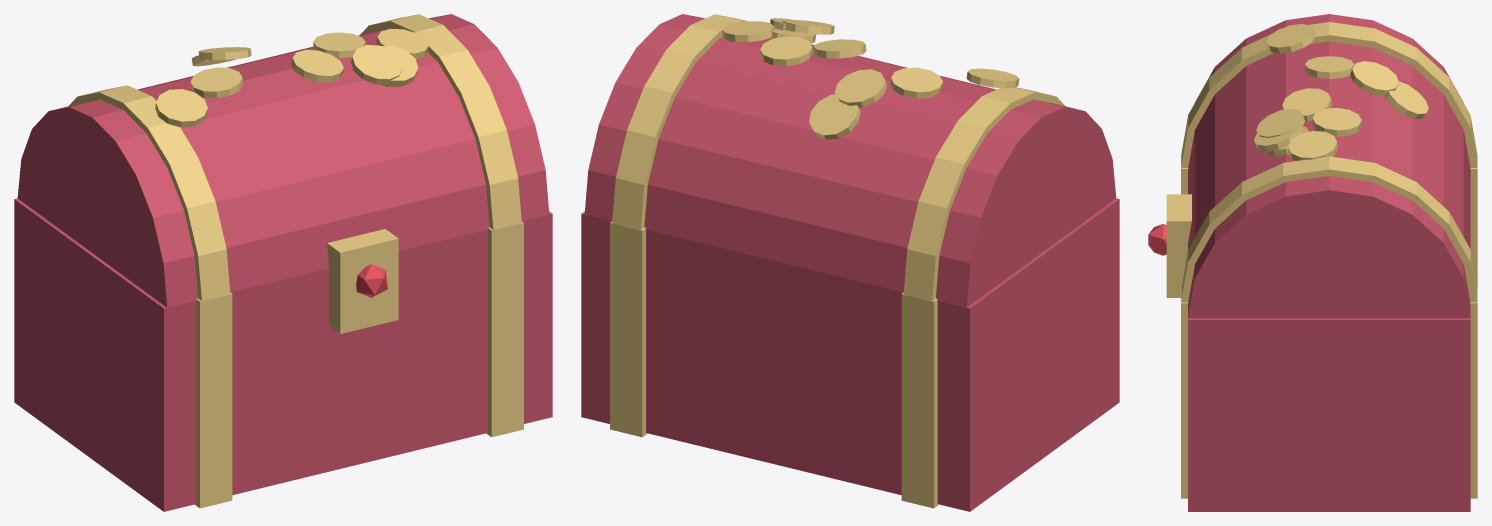
Rendered from HOB_TreasureChest.fbx.
The picture shows the model from 3 angles, left to right: view 1: azimuth 30°, elevation 25°; view 2: azimuth 150°, elevation 25°; view 3: azimuth 270°, elevation 25°; orthographic projection. The views are drawn at different scales.
Visible parts, largest first — view 1: HOB_TreasureChest; view 2: HOB_TreasureChest; view 3: HOB_TreasureChest.
Boxes of the visible parts, x1=… form: HOB_TreasureChest: x1=14, y1=14, x2=552, y2=511; HOB_TreasureChest: x1=581, y1=14, x2=1119, y2=511; HOB_TreasureChest: x1=1148, y1=14, x2=1477, y2=511.
Size of the model in its own units: 120 by 106 by 93.25.
